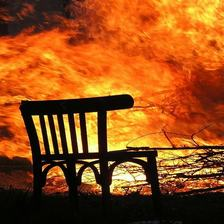fire: (3, 1, 221, 194)
